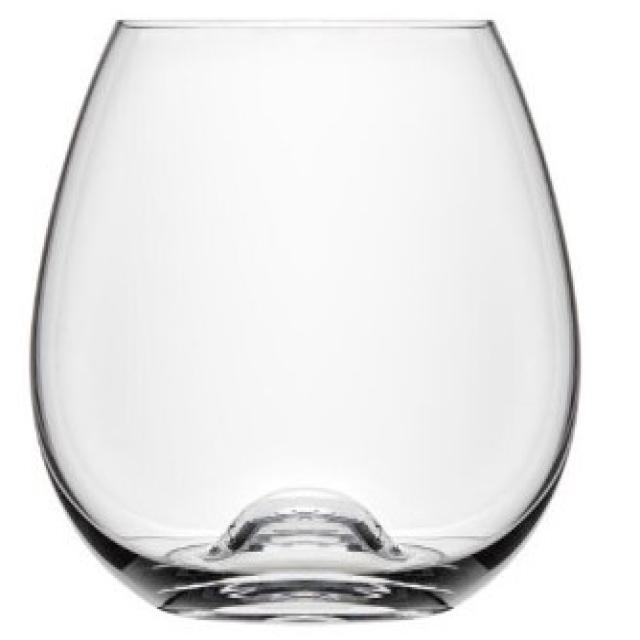electronic: (28, 7, 582, 630)
